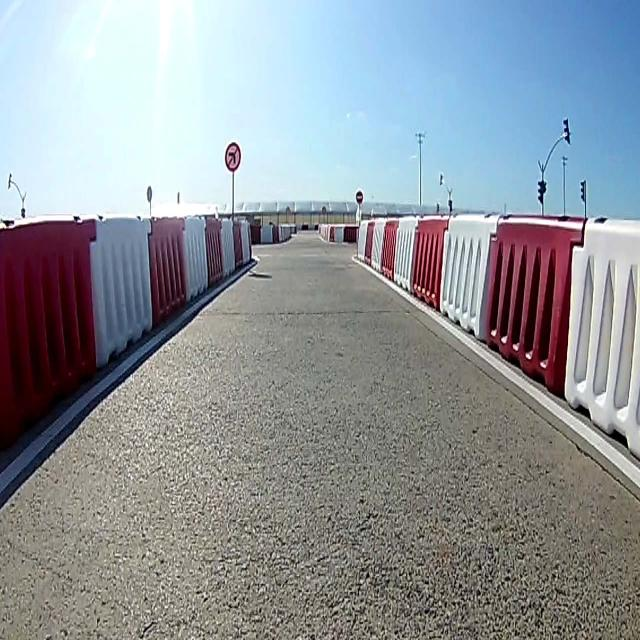girisyok: (355, 190, 363, 203)
soladonulmez: (227, 142, 240, 172)
